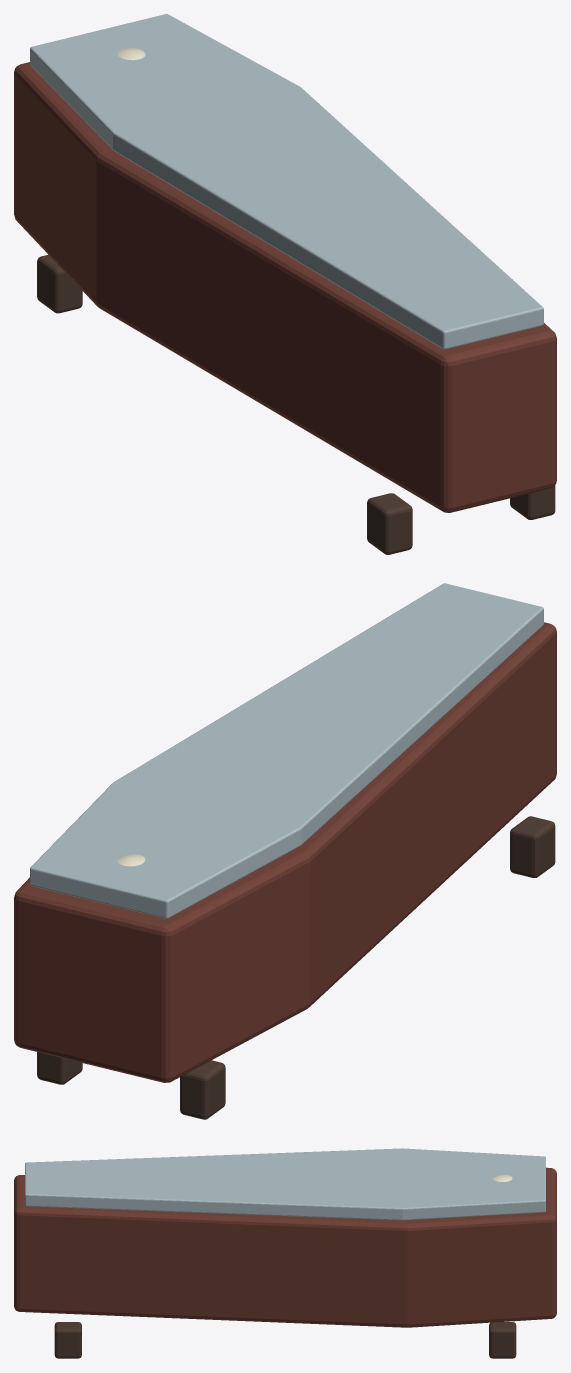
The model's file is coffin_glass_lid.glb.
The picture shows the model from 3 angles, top to bottom: view 1: azimuth 30°, elevation 25°; view 2: azimuth 150°, elevation 25°; view 3: azimuth 270°, elevation 25°; orthographic projection. The views are drawn at different scales.
Parts seen in each view (by area): view 1: GD_coffin_glass_lid__m0, GD_coffin_glass_lid__m1, GD_coffin_glass_lid__m3; view 2: GD_coffin_glass_lid__m0, GD_coffin_glass_lid__m1, GD_coffin_glass_lid__m3; view 3: GD_coffin_glass_lid__m0, GD_coffin_glass_lid__m1, GD_coffin_glass_lid__m3.
Boxes of the visible parts, x1,y1,x2,y2 form: GD_coffin_glass_lid__m0: [14, 62, 556, 512]; GD_coffin_glass_lid__m1: [30, 14, 543, 349]; GD_coffin_glass_lid__m3: [37, 254, 555, 554]; GD_coffin_glass_lid__m0: [14, 622, 556, 1082]; GD_coffin_glass_lid__m1: [30, 583, 543, 918]; GD_coffin_glass_lid__m3: [37, 816, 555, 1119]; GD_coffin_glass_lid__m0: [14, 1167, 556, 1327]; GD_coffin_glass_lid__m1: [25, 1148, 545, 1220]; GD_coffin_glass_lid__m3: [54, 1322, 516, 1358].
Bounding box in the file's own units: 0.6 × 0.631 × 2.
